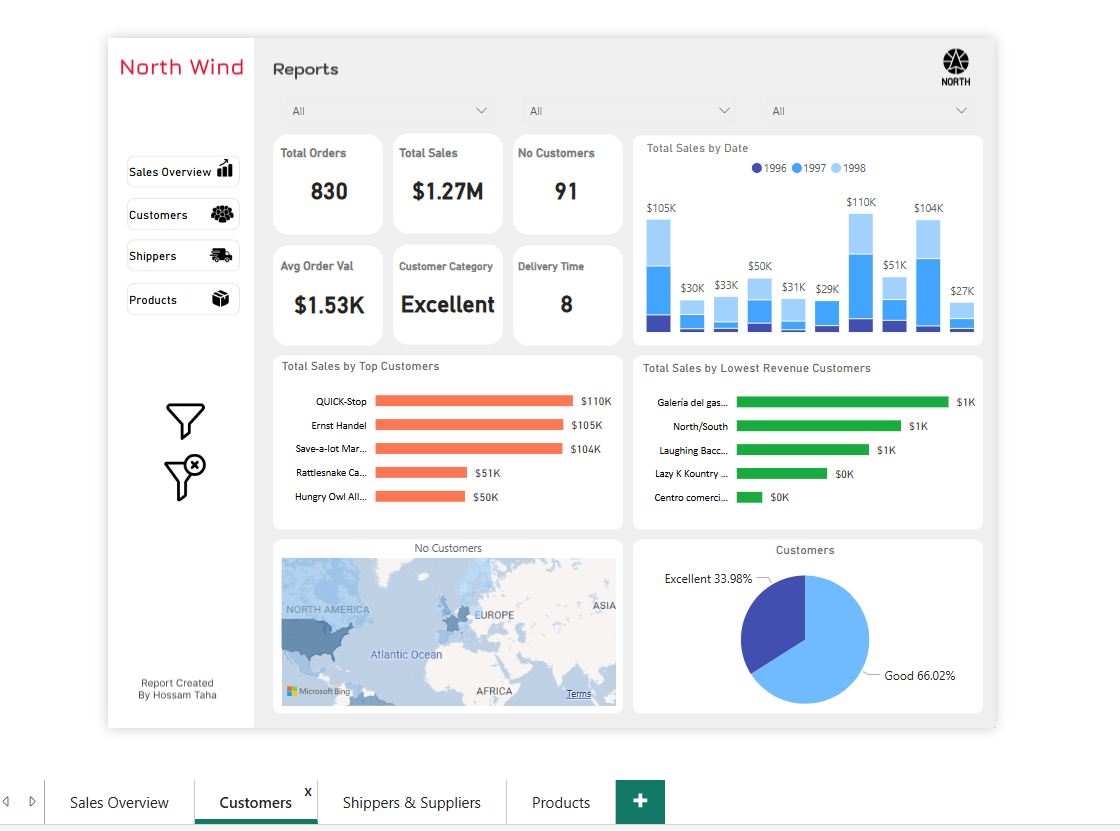

The dashboard page shown, as its layout file describes it:
{"tool":"powerbi","page":{"name":"Customers","canvas":[887,690],"ordinal":1},"visuals":[{"type":"card","title":"Total Orders","fields":{"Values":["Orders (2).Total Orders"]},"box":[167.8,107.8,107.8,76.7],"z":0},{"type":"shape","box":[18.9,117.8,113.3,32.2],"z":0,"group":"g2"},{"type":"shape","box":[18.9,161.1,113.3,32.2],"z":1000,"group":"g2"},{"type":"card","title":"Customer Category","fields":{"Values":["Min(Orders.CustomerCategory)"]},"box":[286.7,221.1,107.8,76.7],"z":1000},{"type":"card","title":"Total Sales","fields":{"Values":["Orders (2).Total Sales"]},"box":[286.7,107.8,107.8,76.7],"z":2000},{"type":"shape","box":[18.9,202.3,113.3,32.2],"z":2000,"group":"g2"},{"type":"card","title":"Avg Order Val","fields":{"Values":["Orders (2).Avg Order Value"]},"box":[167.8,221.1,107.8,76.7],"z":3000},{"type":"shape","box":[18.9,245.6,113.3,32.2],"z":3000,"group":"g2"},{"type":"image","box":[101,115.6,31.3,30.2],"z":4000,"group":"g2"},{"type":"card","title":"Delivery Time","fields":{"Values":["Orders.Avg Delivery Time"]},"box":[405.6,221.1,107.8,76.7],"z":4000},{"type":"card","title":"No Customers","fields":{"Values":["Customers.No Customers"]},"box":[405.6,107.8,107.8,76.7],"z":5000},{"type":"image","box":[98,160.9,34.2,32.2],"z":5000,"group":"g2"},{"type":"image","box":[94.1,202.1,38.1,32.2],"z":6000,"group":"g2"},{"type":"barChart","title":"Total Sales by Top Customers","fields":{"Category":["Customers.CompanyName"],"Y":["Orders (2).Total Sales"]},"box":[168.5,321.3,344.4,158.3],"z":6000},{"type":"image","box":[94.1,245.4,38.1,31.2],"z":7000,"group":"g2"},{"type":"group","id":"g1","title":"Group 5","box":[35.6,355.6,84.4,113.3],"z":7000},{"type":"barChart","title":"Total Sales by Lowest Revenue Customers","fields":{"Category":["Customers.CompanyName"],"Y":["Orders (2).Total Sales"]},"box":[530,322,344,158],"z":8000},{"type":"image","box":[42.3,355.6,72.2,55.6],"z":9000,"group":"g1"},{"type":"pieChart","title":"Customers","fields":{"Y":["CountNonNull(Orders (2).CustomerCategory)"],"Category":["Orders (2).CustomerCategory"]},"box":[521.7,505.4,352.2,184.8],"z":9000},{"type":"slicer","fields":{"Values":["Orders.ShipRegion Hierarchy.ShipRegion","Orders.ShipRegion Hierarchy.ShipCountry","Orders.ShipRegion Hierarchy.ShipCity"]},"box":[168.3,50,225.8,45.8],"z":10000},{"type":"image","box":[35.6,412.3,84.4,56.7],"z":10000,"group":"g1"},{"type":"slicer","fields":{"Values":["Orders.ShippedDate.Variation.Date Hierarchy.Year","Orders.ShippedDate.Variation.Date Hierarchy.Quarter","Orders.ShippedDate.Variation.Date Hierarchy.Month","Orders.ShippedDate.Variation.Date Hierarchy.Day"]},"box":[406.2,50,231.2,41.2],"z":11000},{"type":"slicer","fields":{"Values":["Employees.FullName"]},"box":[648.3,50,225.8,45.8],"z":12000},{"type":"filledMap","fields":{"Category":["Customers.Country"]},"box":[168.5,515.2,344.6,157.6],"z":13000},{"type":"textbox","box":[278.3,495,122.8,34.8],"z":14000},{"type":"columnChart","title":"Total Sales by Date","fields":{"Category":["Customers.CompanyName"],"Y":["Orders.Total Sales"],"Series":["Orders.ShippedDate.Variation.Date Hierarchy.Year"]},"box":[533.7,103,338,197.8],"z":15000},{"type":"group","id":"g2","title":"Group 2","box":[18.9,115.6,113.3,162.2],"z":16000}]}

Visuals, with their boxes on the page's 887x690 design canvas (x1, y1, x2, y2). These are canvas units, not pixel positions in the 1120x831 screenshot, which may show the page scaled, cropped or inside an application window:
"Total Orders" card: BBox(168, 108, 276, 184)
shape: BBox(19, 118, 132, 150)
shape: BBox(19, 161, 132, 193)
"Customer Category" card: BBox(287, 221, 394, 298)
"Total Sales" card: BBox(287, 108, 394, 184)
shape: BBox(19, 202, 132, 234)
"Avg Order Val" card: BBox(168, 221, 276, 298)
shape: BBox(19, 246, 132, 278)
image: BBox(101, 116, 132, 146)
"Delivery Time" card: BBox(406, 221, 513, 298)
"No Customers" card: BBox(406, 108, 513, 184)
image: BBox(98, 161, 132, 193)
image: BBox(94, 202, 132, 234)
"Total Sales by Top Customers" barChart: BBox(168, 321, 513, 480)
image: BBox(94, 245, 132, 277)
"Group 5" group: BBox(36, 356, 120, 469)
"Total Sales by Lowest Revenue Customers" barChart: BBox(530, 322, 874, 480)
image: BBox(42, 356, 114, 411)
"Customers" pieChart: BBox(522, 505, 874, 690)
slicer - Orders.ShipRegion Hierarchy.ShipRegion x Orders.ShipRegion Hierarchy.ShipCountry: BBox(168, 50, 394, 96)
image: BBox(36, 412, 120, 469)
slicer - Orders.ShippedDate.Variation.Date Hierarchy.Year x Orders.ShippedDate.Variation.Date Hierarchy.Quarter: BBox(406, 50, 637, 91)
slicer - Employees.FullName: BBox(648, 50, 874, 96)
filledMap - Customers.Country: BBox(168, 515, 513, 673)
textbox: BBox(278, 495, 401, 530)
"Total Sales by Date" columnChart: BBox(534, 103, 872, 301)
"Group 2" group: BBox(19, 116, 132, 278)
